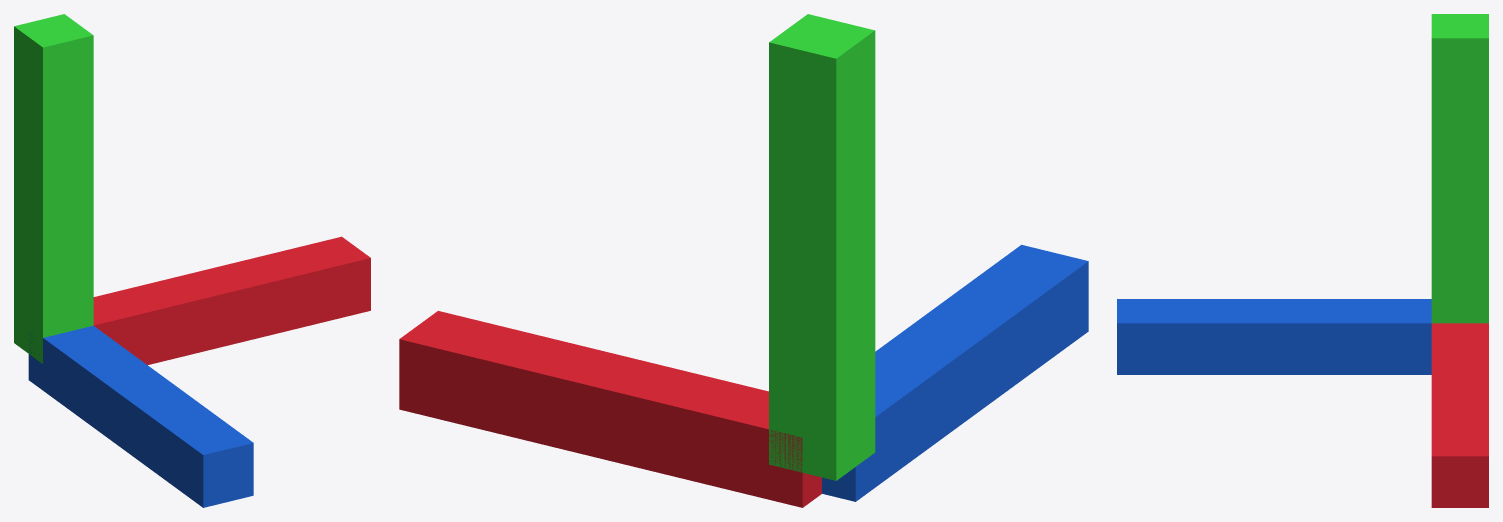
Rendered from Coordinate.glb.
3 renders of one model, left to right at view 1: azimuth 30°, elevation 25°; view 2: azimuth 150°, elevation 25°; view 3: azimuth 270°, elevation 25°, orthographic. The views are drawn at different scales.
Visible parts, largest first — view 1: Cube, Cube.001, Cube.002; view 2: Cube, Cube.001, Cube.002; view 3: Cube.002, Cube, Cube.001.
Part boxes in pixels (x1,y1,x2,y2): Cube: [14, 14, 93, 363]; Cube.001: [93, 236, 370, 364]; Cube.002: [28, 325, 253, 507]; Cube: [769, 14, 875, 480]; Cube.001: [399, 311, 821, 507]; Cube.002: [822, 244, 1088, 501]; Cube.002: [1117, 299, 1431, 374]; Cube: [1431, 14, 1488, 323]; Cube.001: [1431, 323, 1488, 507].
Bounding box in the file's own units: 0.65 × 0.65 × 0.65.
